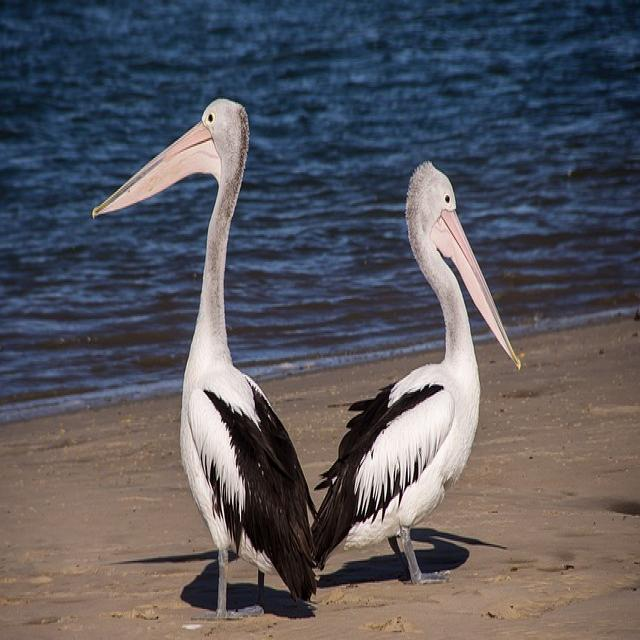Carnivorous: (92, 99, 317, 615), (308, 161, 522, 583)
